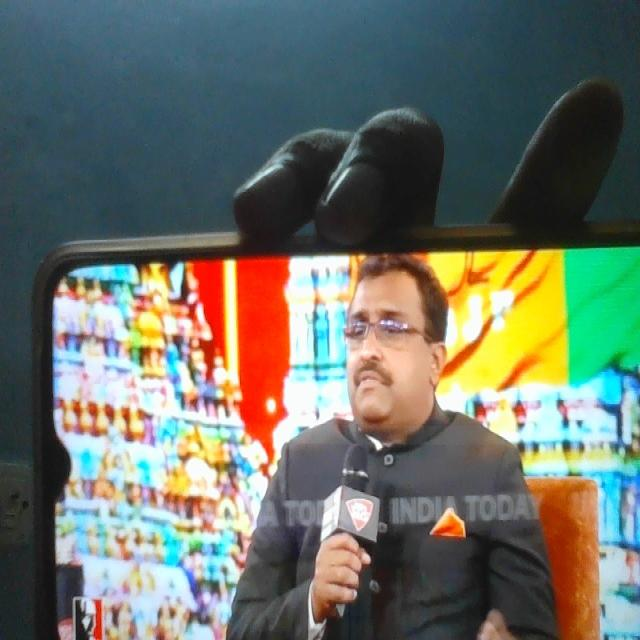fake: (334, 227, 448, 441)
